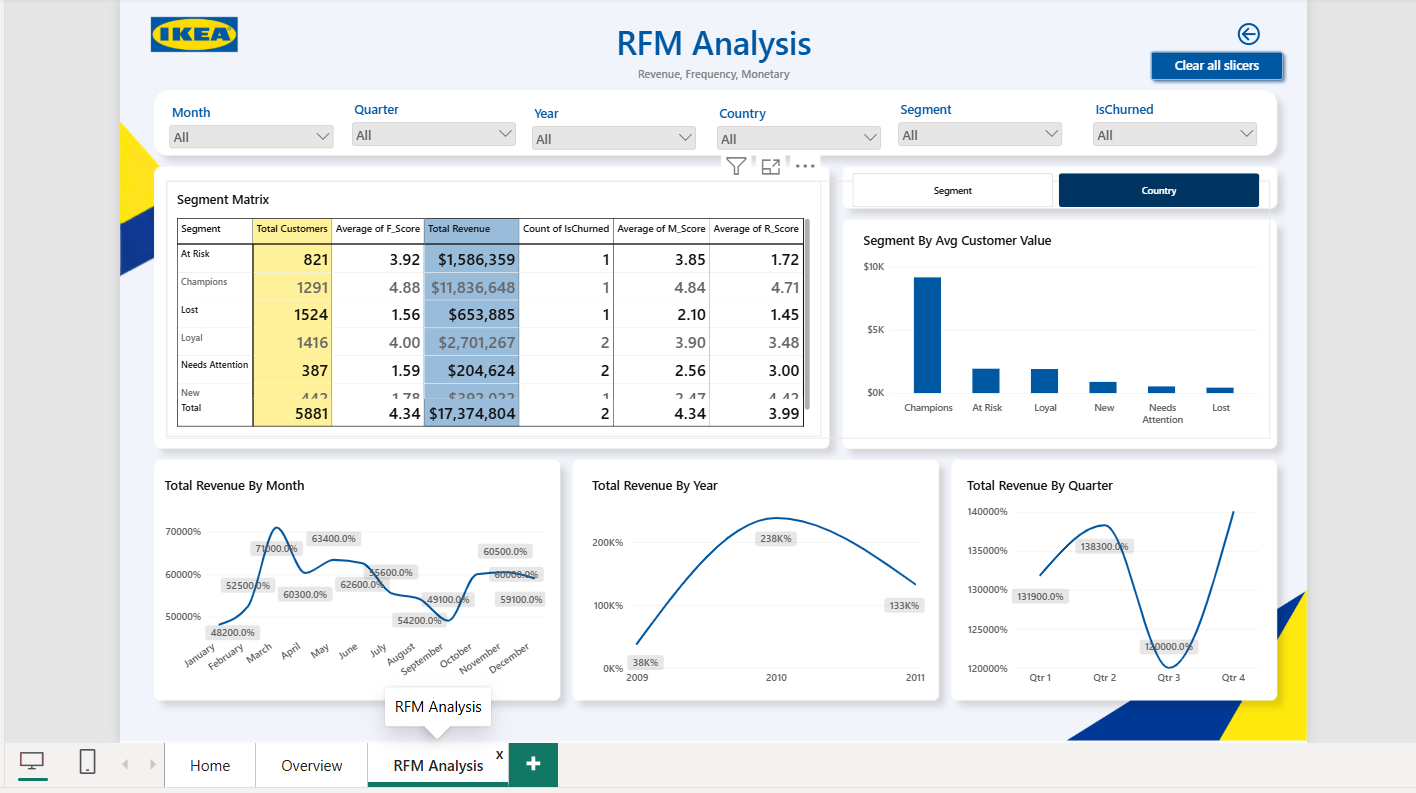

What the dashboard file says about the page in this screenshot:
{"tool":"powerbi","page":{"name":"RFM Analysis","canvas":[1750,1100],"ordinal":1},"visuals":[{"type":"slicer","fields":{"Values":["Sheet1.invoice_date.Variation.Date Hierarchy.Month"]},"box":[68.2,156.7,251,150],"z":0},{"type":"columnChart","title":"Segment By Avg Customer Value","fields":{"Category":["Sheet1.Segment"],"Y":["Sheet1.Avg Customer Value"]},"box":[1080.1,331.8,615.6,318.9],"z":0,"group":"g2"},{"type":"lineChart","title":"Total Revenue By Month","fields":{"Category":["Sheet1.invoice_date.Variation.Date Hierarchy.Month"],"Y":["Sheet1.Churned %"]},"box":[49.8,693,593.5,341],"z":0,"group":"g1"},{"type":"slicer","fields":{"Values":["Sheet1.invoice_date.Variation.Date Hierarchy.Quarter"]},"box":[337.3,153,251,150],"z":1000},{"type":"pivotTable","title":"Segment Matrix","fields":{"Rows":["Sheet1.Segment"],"Values":["Sheet1.Total Customers","Avg(Sheet1.F_Score)","Sheet1.Total Revenue","Count(Sheet1.IsChurned)","Avg(Sheet1.M_Score)","Avg(Sheet1.R_Score)"]},"box":[68.4,271.8,965.5,378.2],"z":1000,"group":"g2"},{"type":"lineChart","title":"Total Revenue By Year","fields":{"Category":["Sheet1.invoice_date.Variation.Date Hierarchy.Year"],"Y":["Sheet1.Churned %"]},"box":[680.2,693,523.5,341],"z":1000,"group":"g1"},{"type":"slicer","fields":{"Values":["Sheet1.invoice_date.Variation.Date Hierarchy.Year"]},"box":[602.7,158.5,251,150],"z":2000},{"type":"lineChart","title":"Total Revenue By Quarter","fields":{"Category":["Sheet1.invoice_date.Variation.Date Hierarchy.Quarter"],"Y":["Sheet1.Churned %"]},"box":[1233.1,693,462.6,341],"z":2000,"group":"g1"},{"type":"slicer","fields":{"Values":["Sheet1.country"]},"box":[875.5,158.5,251,150],"z":3000},{"type":"slicer","fields":{"Values":["Sheet1.Segment"]},"box":[1142.8,153,251,150],"z":4000},{"type":"slicer","fields":{"Values":["Sheet1.IsChurned"]},"box":[1430.3,153,251,150],"z":5000},{"type":"group","id":"g1","title":"Revenue","box":[49.8,693,1646,341],"z":6000},{"type":"image","box":[0,0,219.3,110.6],"z":8000},{"type":"textbox","box":[578.8,33.2,593.5,77.4],"z":9000},{"type":"actionButton","box":[1605.4,14.7,118,79.3],"z":10000},{"type":"actionButton","box":[1511.4,71.9,212,59],"z":11000},{"type":"textbox","box":[578.2,101.4,593.5,29.5],"z":12000},{"type":"group","id":"g2","title":"Segment","box":[68.4,271.8,1627.3,378.9],"z":14000},{"type":"bookmarkNavigator","box":[1080.9,259.3,600,50],"z":15000}]}

Visuals, with their boxes on the page's 1750x1100 design canvas (x1, y1, x2, y2). These are canvas units, not pixel positions in the 1416x793 screenshot, which may show the page scaled, cropped or inside an application window:
slicer - Sheet1.invoice_date.Variation.Date Hierarchy.Month: region(68, 157, 319, 307)
"Segment By Avg Customer Value" columnChart: region(1080, 332, 1696, 651)
"Total Revenue By Month" lineChart: region(50, 693, 643, 1034)
slicer - Sheet1.invoice_date.Variation.Date Hierarchy.Quarter: region(337, 153, 588, 303)
"Segment Matrix" pivotTable: region(68, 272, 1034, 650)
"Total Revenue By Year" lineChart: region(680, 693, 1204, 1034)
slicer - Sheet1.invoice_date.Variation.Date Hierarchy.Year: region(603, 158, 854, 308)
"Total Revenue By Quarter" lineChart: region(1233, 693, 1696, 1034)
slicer - Sheet1.country: region(876, 158, 1126, 308)
slicer - Sheet1.Segment: region(1143, 153, 1394, 303)
slicer - Sheet1.IsChurned: region(1430, 153, 1681, 303)
"Revenue" group: region(50, 693, 1696, 1034)
image: region(0, 0, 219, 111)
textbox: region(579, 33, 1172, 111)
actionButton: region(1605, 15, 1723, 94)
actionButton: region(1511, 72, 1723, 131)
textbox: region(578, 101, 1172, 131)
"Segment" group: region(68, 272, 1696, 651)
bookmarkNavigator: region(1081, 259, 1681, 309)
